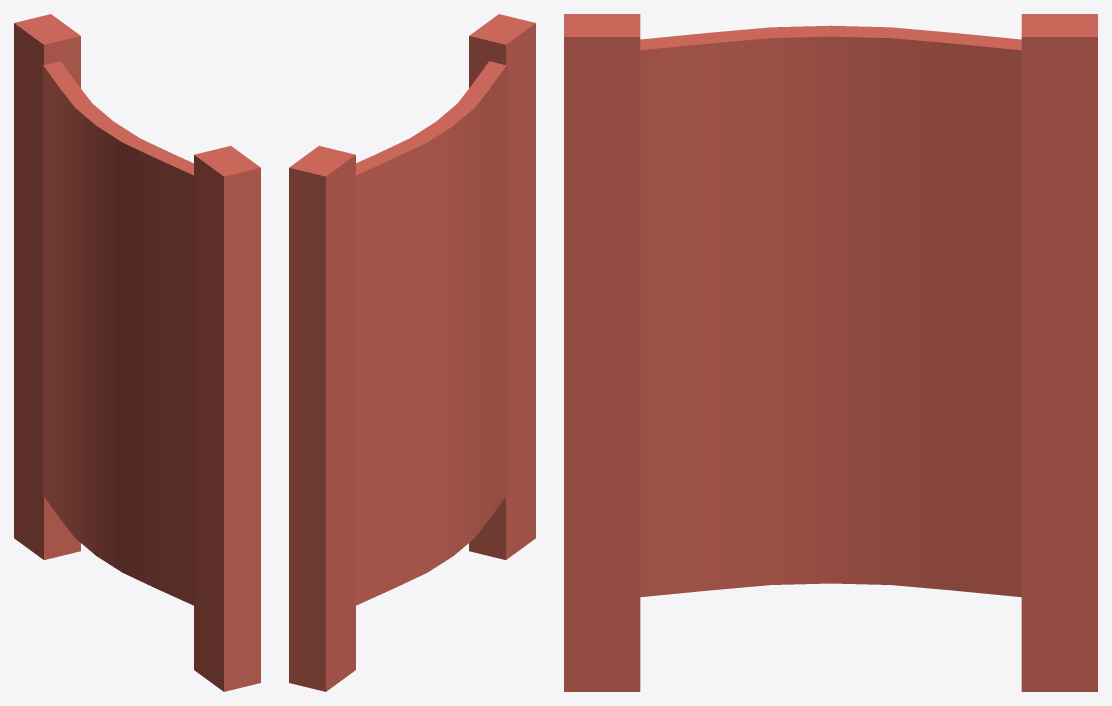
The model's file is ChairBack1.fbx.
The picture shows the model from 3 angles, left to right: view 1: azimuth 30°, elevation 25°; view 2: azimuth 150°, elevation 25°; view 3: azimuth 270°, elevation 25°; orthographic projection. The views are drawn at different scales.
Visible parts, largest first — view 1: ChairBack1; view 2: ChairBack1; view 3: ChairBack1.
Part boxes in pixels (x1,y1,x2,y2): ChairBack1: [14, 14, 260, 691]; ChairBack1: [289, 14, 535, 691]; ChairBack1: [564, 14, 1097, 691].
Size of the model in its own units: 0.0787 by 0.65 by 0.48.
